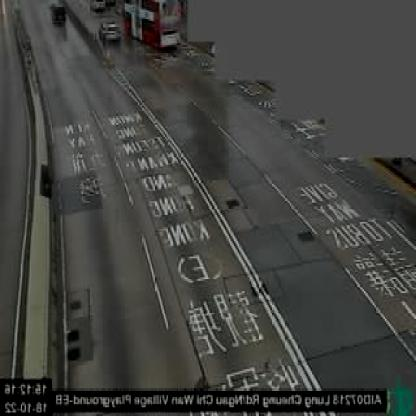Bus: (123, 0, 184, 49)
Car: (97, 19, 121, 48), (49, 2, 67, 28), (88, 1, 106, 13)
